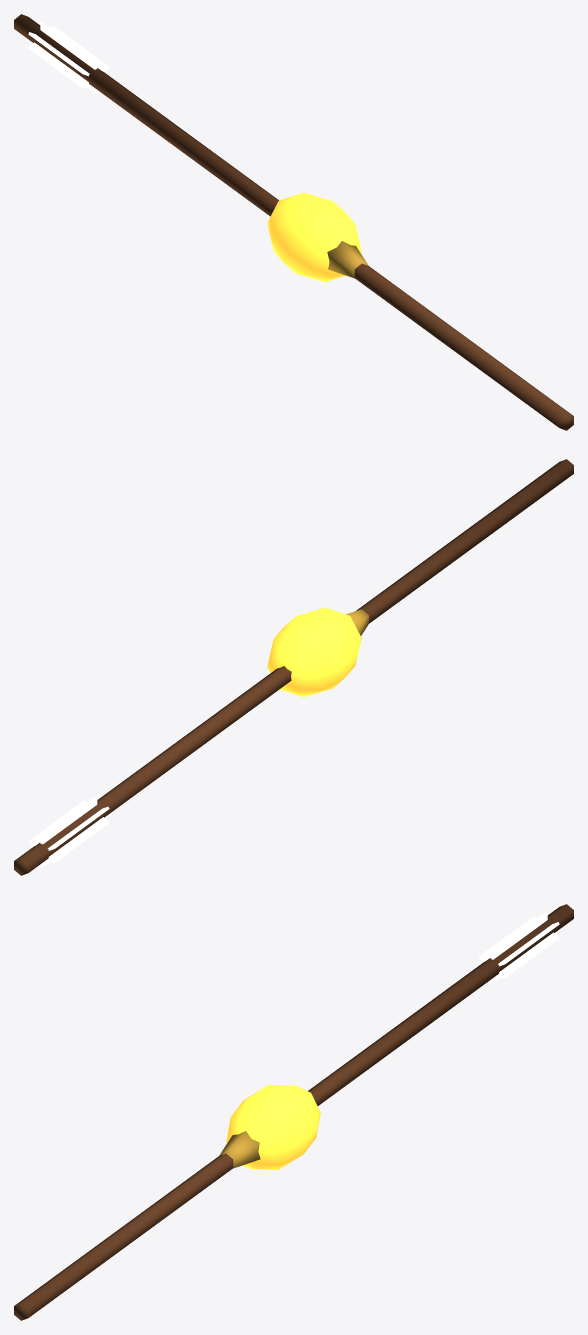
The model's file is elven-arrow.glb.
The picture shows the model from 3 angles, top to bottom: view 1: azimuth 30°, elevation 25°; view 2: azimuth 150°, elevation 25°; view 3: azimuth 330°, elevation 25°; orthographic projection.
Visible parts, largest first — view 1: Model Mesh; view 2: Model Mesh; view 3: Model Mesh.
Part boxes in pixels (bbox=[...]): Model Mesh: bbox=[14, 14, 573, 430]; Model Mesh: bbox=[14, 459, 573, 875]; Model Mesh: bbox=[14, 904, 573, 1320].
Bounding box in the file's own units: 0.0571 × 0.06 × 0.8.
